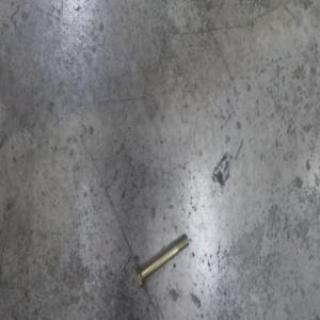Bolttrack_idkeyframe: (133, 232, 187, 292)
